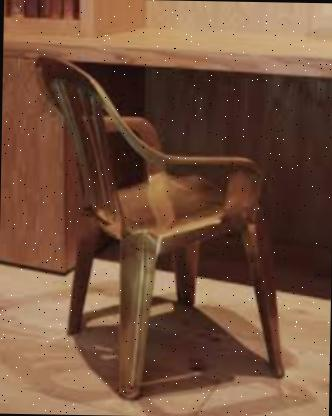chair: (26, 49, 280, 402)
